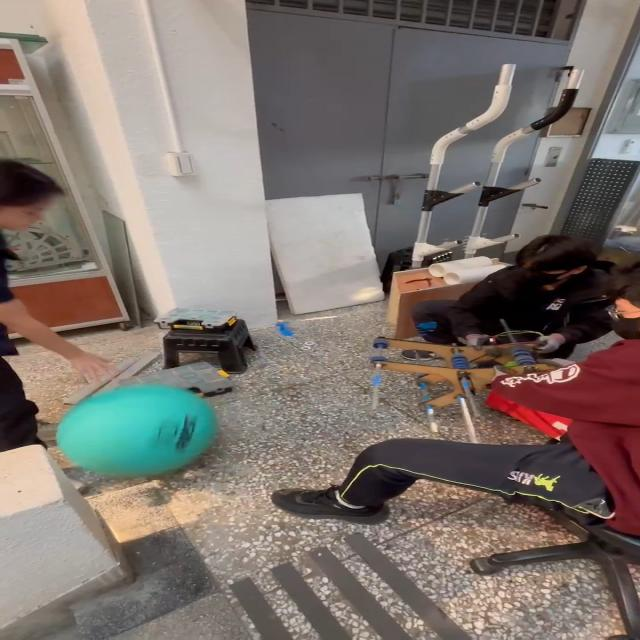ALGAE: (54, 383, 220, 479)
